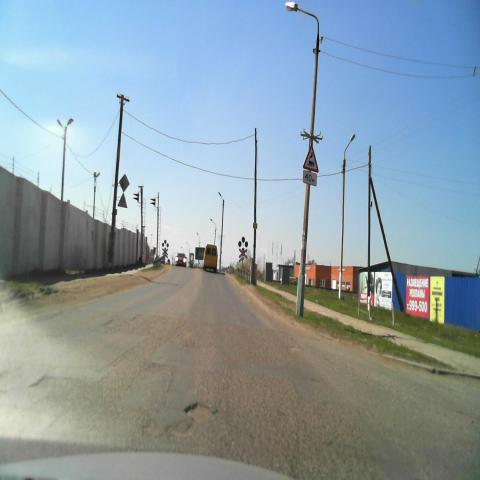8_1_1: (303, 170, 317, 186)
